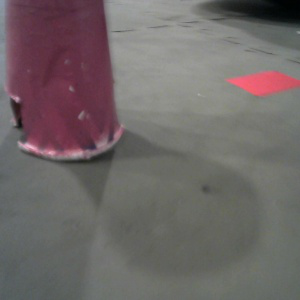middle: (1, 1, 126, 163)
